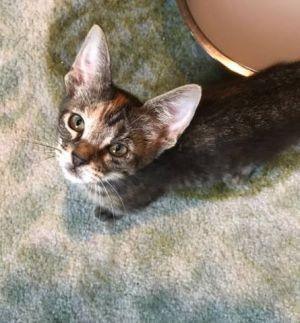bengal: (42, 19, 205, 191)
